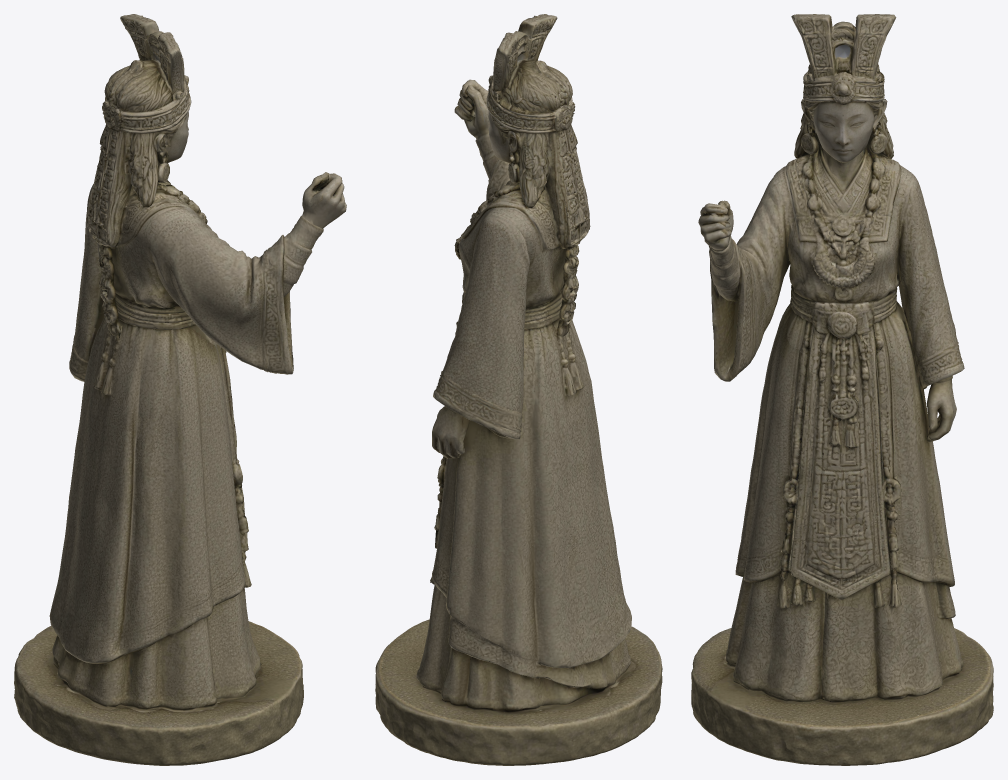
The model's file is ancient_statue_3d_model_4.fbx.
3 views of the same model, side by side, from view 1: azimuth 30°, elevation 25°; view 2: azimuth 150°, elevation 25°; view 3: azimuth 270°, elevation 25° (orthographic).
Parts seen in each view (by area): view 1: tripo_node_5d404dc9; view 2: tripo_node_5d404dc9; view 3: tripo_node_5d404dc9.
Boxes of the visible parts, <box> form: tripo_node_5d404dc9: <box>14,14,346,765</box>; tripo_node_5d404dc9: <box>375,14,662,765</box>; tripo_node_5d404dc9: <box>691,14,993,765</box>.
Size of the model in its own units: 0.3715 by 0.978 by 0.388.
